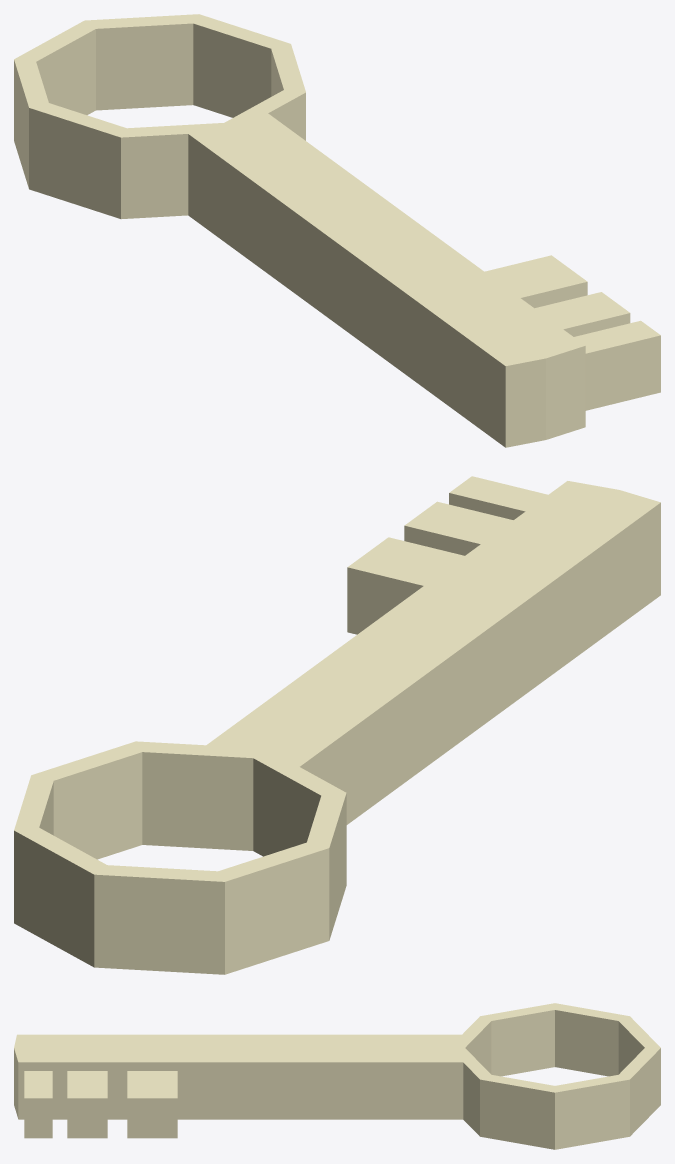
Rendered from key.fbx.
The picture shows the model from 3 angles, top to bottom: view 1: azimuth 30°, elevation 25°; view 2: azimuth 150°, elevation 25°; view 3: azimuth 270°, elevation 25°; orthographic projection. The views are drawn at different scales.
Parts seen in each view (by area): view 1: key; view 2: key; view 3: key.
Part boxes in pixels (x1,y1,x2,y2): key: [14, 14, 660, 447]; key: [14, 476, 660, 974]; key: [14, 1003, 660, 1149].
Bounding box in the file's own units: 21.75 × 6.48 × 66.4.
